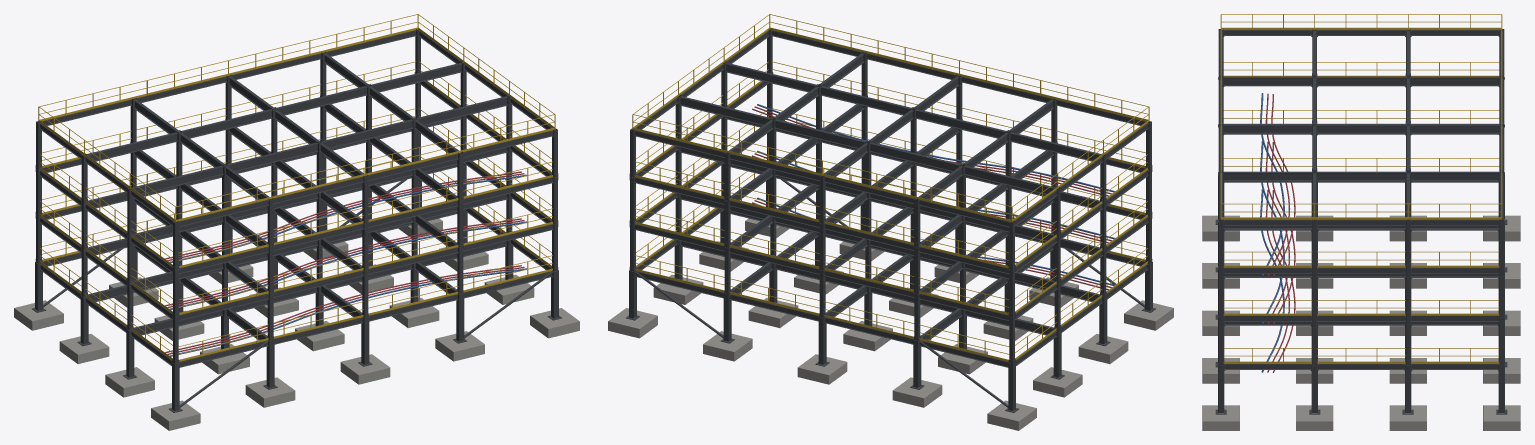
The model's file is structure_demo.glb.
The picture shows the model from 3 angles, left to right: view 1: azimuth 30°, elevation 25°; view 2: azimuth 150°, elevation 25°; view 3: azimuth 270°, elevation 25°; orthographic projection. The views are drawn at different scales.
Parts seen in each view (by area): view 1: Rail_Edge_ToeBoard_RF_S, Rail_Edge_ToeBoard_RF_N, Rail_Edge_ToeBoard_L02_S, Rail_Edge_ToeBoard_L01_S, Rail_Edge_ToeBoard_L03_S, Concrete_Pad_Foundation_C1, Concrete_Pad_Foundation_A3, Concrete_Pad_Foundation_A2, Concrete_Pad_Foundation_B1, Concrete_Pad_Foundation_A5, Concrete_Pad_Foundation_A4, Concrete_Pad_Foundation_A1 (+46 smaller); view 2: Rail_Edge_ToeBoard_RF_N, Rail_Edge_ToeBoard_RF_S, Rail_Edge_ToeBoard_L02_N, Rail_Edge_ToeBoard_L01_N, Rail_Edge_ToeBoard_L03_N, Concrete_Pad_Foundation_B1, Concrete_Pad_Foundation_D3, Concrete_Pad_Foundation_D2, Concrete_Pad_Foundation_C1, Concrete_Pad_Foundation_D5, Concrete_Pad_Foundation_D4, Concrete_Pad_Foundation_D1 (+38 smaller); view 3: Steel_Beam_Roof_Secondary_RF_A2-B2, Steel_Beam_Roof_Secondary_RF_A4-B4, Steel_Beam_Roof_Secondary_RF_C2-D2, Steel_Beam_Roof_Secondary_RF_C4-D4, Steel_Beam_Roof_Secondary_RF_B2-C2, Steel_Beam_Roof_Secondary_RF_B4-C4, Concrete_Pad_Foundation_A5, Concrete_Pad_Foundation_B5, Concrete_Pad_Foundation_C5, Concrete_Pad_Foundation_D5, Steel_Beam_Roof_Secondary_RF_A3-B3, Steel_Beam_Roof_Secondary_RF_C3-D3 (+62 smaller).
Boxes of the visible parts, x1,y1,x2,y2 form: Rail_Edge_ToeBoard_RF_S: (176, 127, 554, 221); Rail_Edge_ToeBoard_RF_N: (39, 27, 417, 121); Rail_Edge_ToeBoard_L02_S: (179, 221, 552, 314); Rail_Edge_ToeBoard_L01_S: (179, 268, 552, 361); Rail_Edge_ToeBoard_L03_S: (179, 175, 552, 267); Concrete_Pad_Foundation_C1: (59, 334, 109, 363); Concrete_Pad_Foundation_A3: (340, 354, 390, 384); Concrete_Pad_Foundation_A2: (245, 377, 295, 407); Concrete_Pad_Foundation_B1: (105, 367, 154, 397); Concrete_Pad_Foundation_A5: (530, 308, 579, 338); Concrete_Pad_Foundation_A4: (435, 331, 484, 361); Concrete_Pad_Foundation_A1: (151, 400, 200, 430); Rail_Edge_ToeBoard_RF_N: (633, 127, 1011, 221); Rail_Edge_ToeBoard_RF_S: (770, 27, 1148, 121); Rail_Edge_ToeBoard_L02_N: (635, 221, 1008, 314); Rail_Edge_ToeBoard_L01_N: (635, 268, 1008, 361); Rail_Edge_ToeBoard_L03_N: (635, 175, 1008, 267); Concrete_Pad_Foundation_B1: (1078, 334, 1128, 363); Concrete_Pad_Foundation_D3: (797, 354, 847, 384); Concrete_Pad_Foundation_D2: (892, 377, 942, 407); Concrete_Pad_Foundation_C1: (1033, 367, 1082, 397); Concrete_Pad_Foundation_D5: (608, 308, 657, 338); Concrete_Pad_Foundation_D4: (703, 331, 752, 361); Concrete_Pad_Foundation_D1: (987, 400, 1036, 430); Steel_Beam_Roof_Secondary_RF_A2-B2: (1223, 76, 1312, 86); Steel_Beam_Roof_Secondary_RF_A4-B4: (1223, 171, 1312, 181); Steel_Beam_Roof_Secondary_RF_C2-D2: (1410, 76, 1499, 86); Steel_Beam_Roof_Secondary_RF_C4-D4: (1410, 171, 1499, 181); Steel_Beam_Roof_Secondary_RF_B2-C2: (1317, 76, 1405, 86); Steel_Beam_Roof_Secondary_RF_B4-C4: (1317, 171, 1405, 181); Concrete_Pad_Foundation_A5: (1202, 405, 1239, 430); Concrete_Pad_Foundation_B5: (1296, 405, 1333, 430); Concrete_Pad_Foundation_C5: (1389, 405, 1426, 430); Concrete_Pad_Foundation_D5: (1483, 405, 1520, 430); Steel_Beam_Roof_Secondary_RF_A3-B3: (1223, 124, 1312, 133); Steel_Beam_Roof_Secondary_RF_C3-D3: (1410, 124, 1499, 133).
Size of the model in its own units: 31.2 by 15.52 by 20.4.
